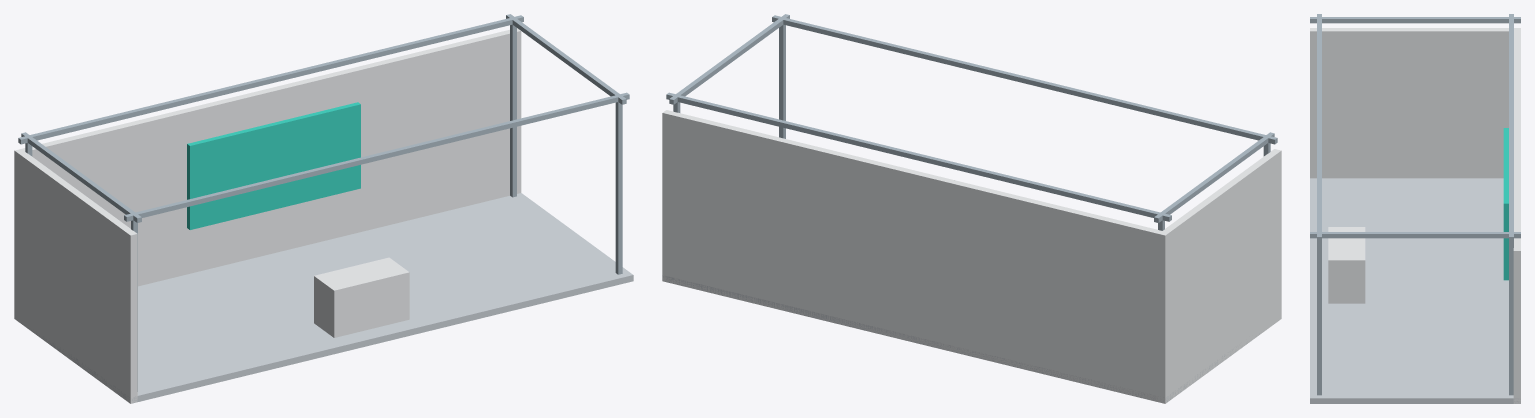
The picture shows the model from 3 angles, left to right: view 1: azimuth 30°, elevation 25°; view 2: azimuth 150°, elevation 25°; view 3: azimuth 270°, elevation 25°; orthographic projection. The views are drawn at different scales.
Parts seen in each view (by area): view 1: Exhibition Booth Concept; view 2: Exhibition Booth Concept; view 3: Exhibition Booth Concept.
Part boxes in pixels (box(x1,y1,x2,y2)): Exhibition Booth Concept: box(14, 14, 633, 403); Exhibition Booth Concept: box(662, 14, 1281, 403); Exhibition Booth Concept: box(1310, 14, 1520, 403).
Size of the model in its own units: 10 by 3.49 by 4.
